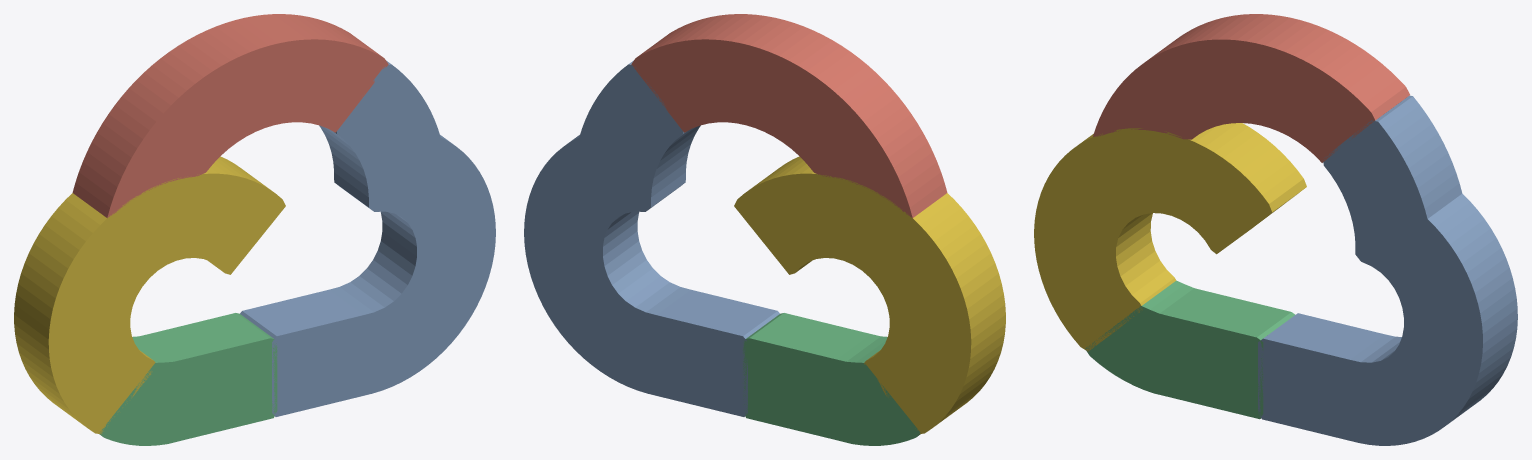
File: gcp-transformed.glb
3 renders of one model, left to right at view 1: azimuth 30°, elevation 25°; view 2: azimuth 150°, elevation 25°; view 3: azimuth 330°, elevation 25°, orthographic.
Visible parts, largest first — view 1: world; view 2: world; view 3: world.
Part boxes in pixels (x1=…): world: x1=14, y1=14, x2=495, y2=445; world: x1=524, y1=14, x2=1005, y2=445; world: x1=1034, y1=14, x2=1517, y2=445.
Size of the model in its own units: 5.25 by 4.19 by 0.7061.
